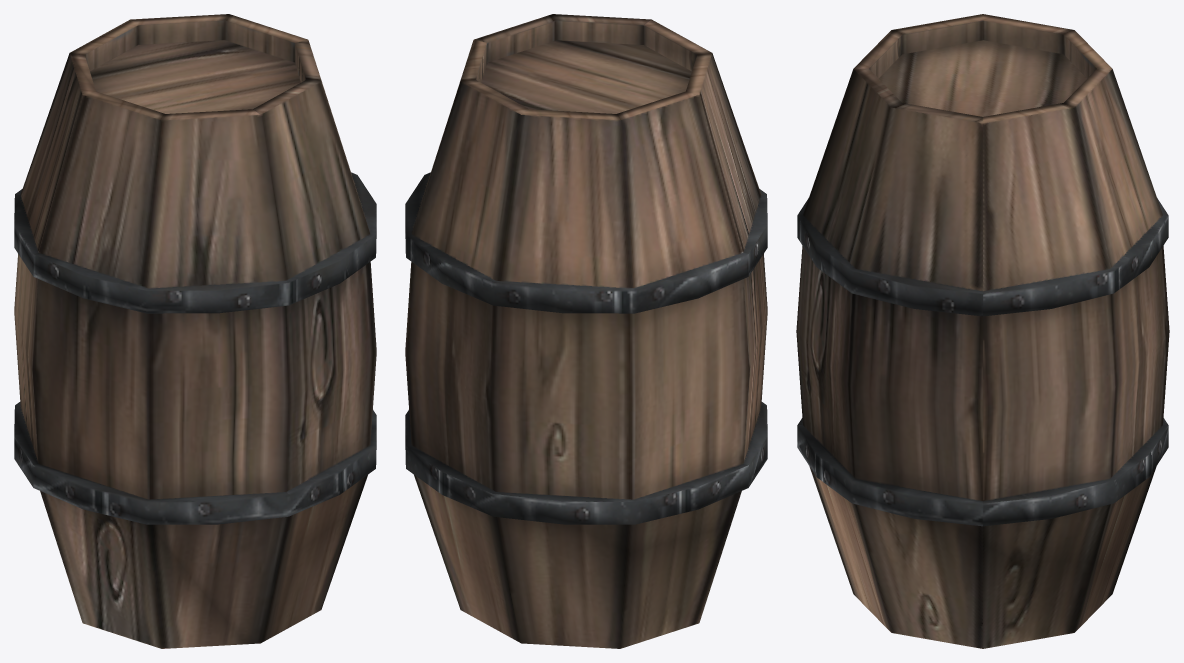
The model's file is Barrel.fbx.
3 views of the same model, side by side, from view 1: azimuth 30°, elevation 25°; view 2: azimuth 150°, elevation 25°; view 3: azimuth 270°, elevation 25° (orthographic).
Parts seen in each view (by area): view 1: Cylinder; view 2: Cylinder; view 3: Cylinder.
Boxes of the visible parts, x1,y1,x2,y2 form: Cylinder: (14, 14, 376, 648); Cylinder: (405, 14, 767, 648); Cylinder: (796, 14, 1169, 648).
Bounding box in the file's own units: 0.9407 × 1.46 × 0.9407.
